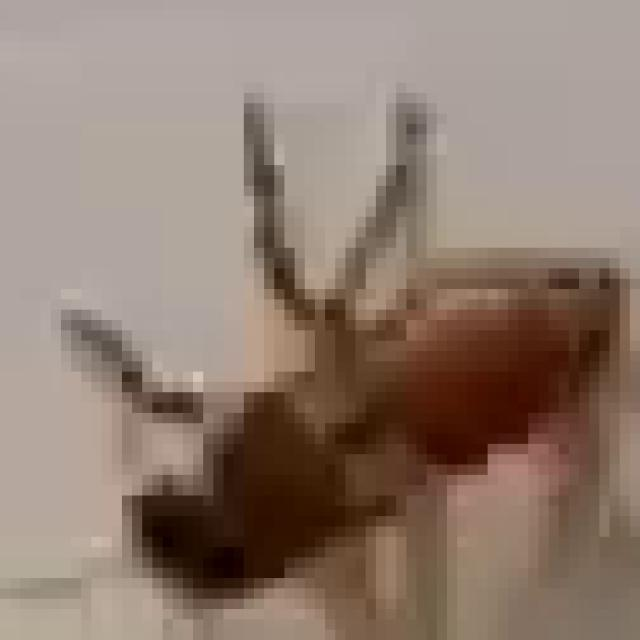honeybee: (77, 123, 619, 583)
